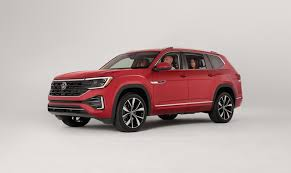car: (48, 44, 244, 132)
